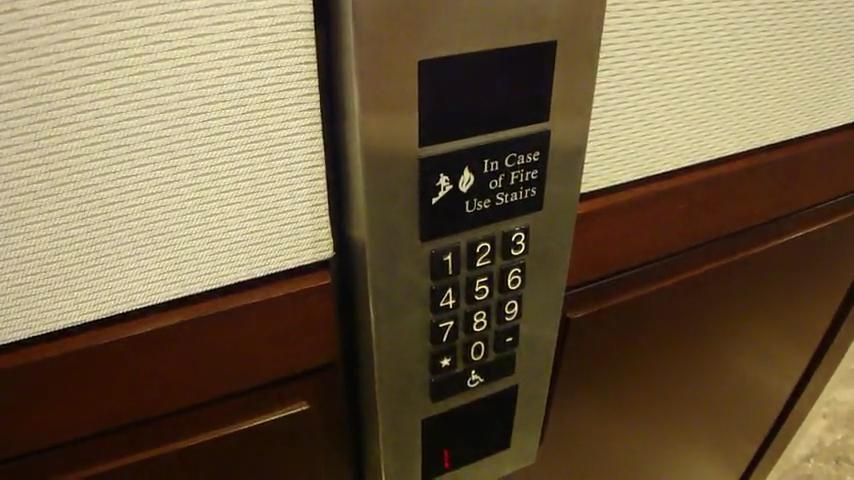-: (495, 324, 519, 354)
0: (464, 335, 490, 365)
1: (430, 242, 461, 279)
2: (467, 233, 495, 271)
3: (502, 224, 529, 261)
4: (430, 279, 460, 314)
5: (466, 271, 493, 305)
6: (500, 260, 525, 294)
7: (431, 314, 459, 347)
8: (465, 304, 491, 336)
9: (497, 293, 522, 325)
led: (417, 40, 557, 148), (421, 385, 518, 480)
s: (430, 347, 458, 375)
